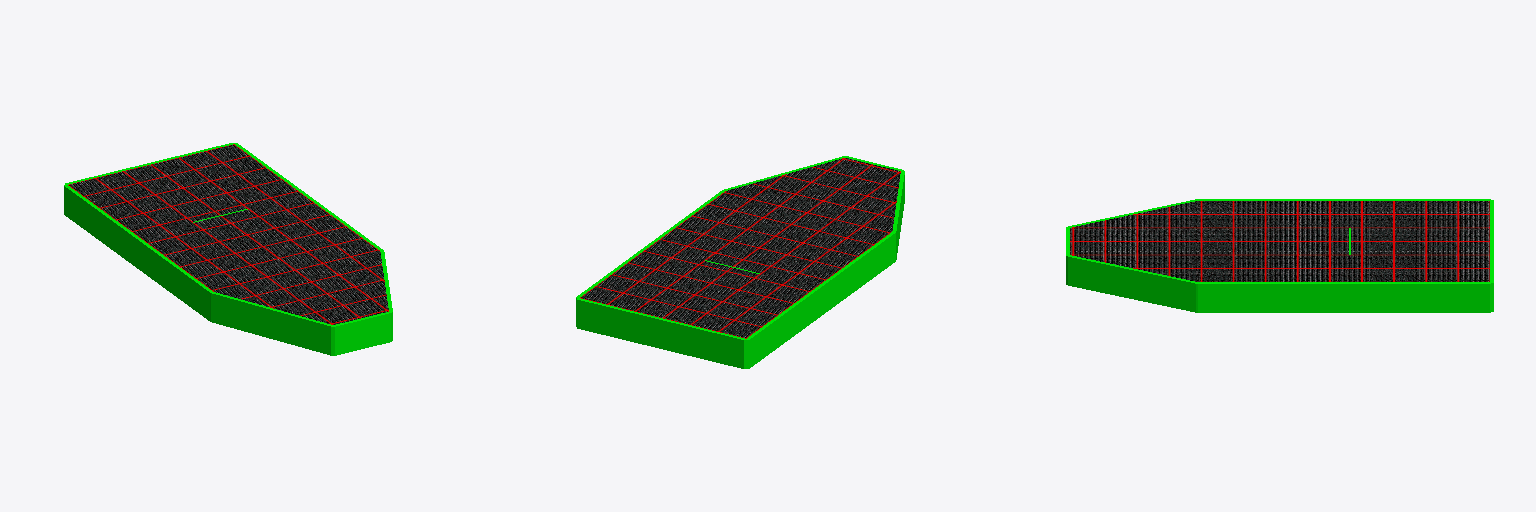
The picture shows the model from 3 angles: view 1: azimuth 30°, elevation 25°; view 2: azimuth 150°, elevation 25°; view 3: azimuth 270°, elevation 25°; orthographic projection.
Visible parts, largest first — view 1: Mesh_0003-SKP--Metal_Aluminum_Anodized, Mesh_0003-SKP--Default_Material; view 2: Mesh_0003-SKP--Metal_Aluminum_Anodized, Mesh_0003-SKP--Default_Material; view 3: Mesh_0003-SKP--Metal_Aluminum_Anodized, Mesh_0003-SKP--Default_Material.
Boxes of the visible parts, box(x1,y1,x2,y2) form: Mesh_0003-SKP--Metal_Aluminum_Anodized: box(68, 144, 388, 324); Mesh_0003-SKP--Default_Material: box(64, 143, 392, 355); Mesh_0003-SKP--Metal_Aluminum_Anodized: box(580, 158, 900, 338); Mesh_0003-SKP--Default_Material: box(576, 156, 904, 368); Mesh_0003-SKP--Metal_Aluminum_Anodized: box(1070, 201, 1489, 281); Mesh_0003-SKP--Default_Material: box(1066, 199, 1493, 312).
Size of the model in its own units: 7200 by 1152 by 15390.
Materials: 22 (13 with a texture image).